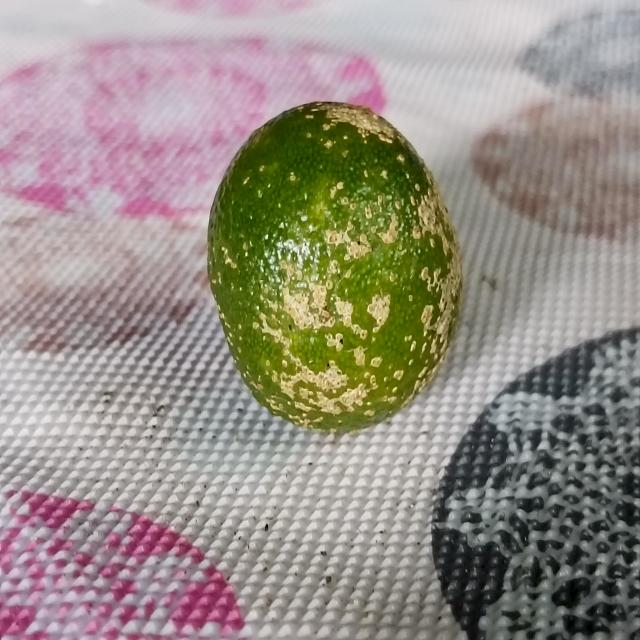scab: (205, 91, 468, 437)
